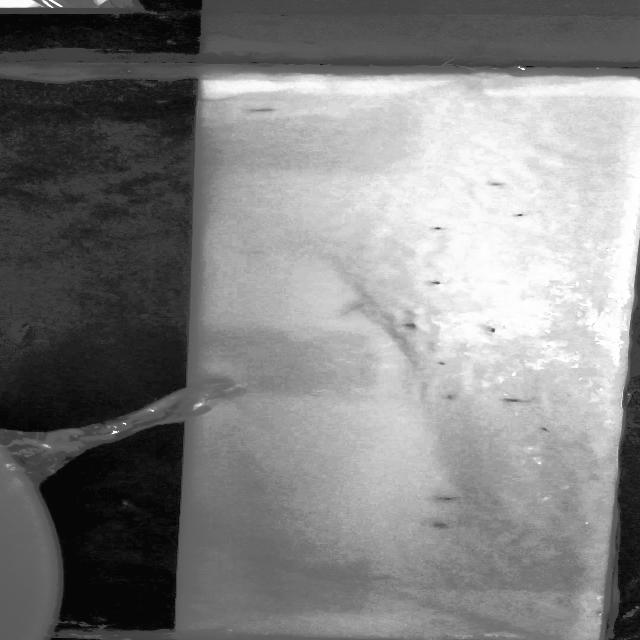shrimp: (438, 392, 471, 406), (401, 319, 429, 332), (505, 397, 534, 408), (508, 210, 536, 220), (484, 180, 512, 190), (434, 357, 458, 368), (428, 278, 448, 288), (428, 225, 450, 233), (542, 428, 558, 436), (486, 326, 502, 334)
